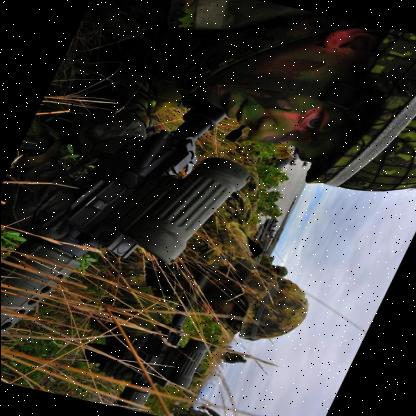rifle: (0, 73, 275, 405)
